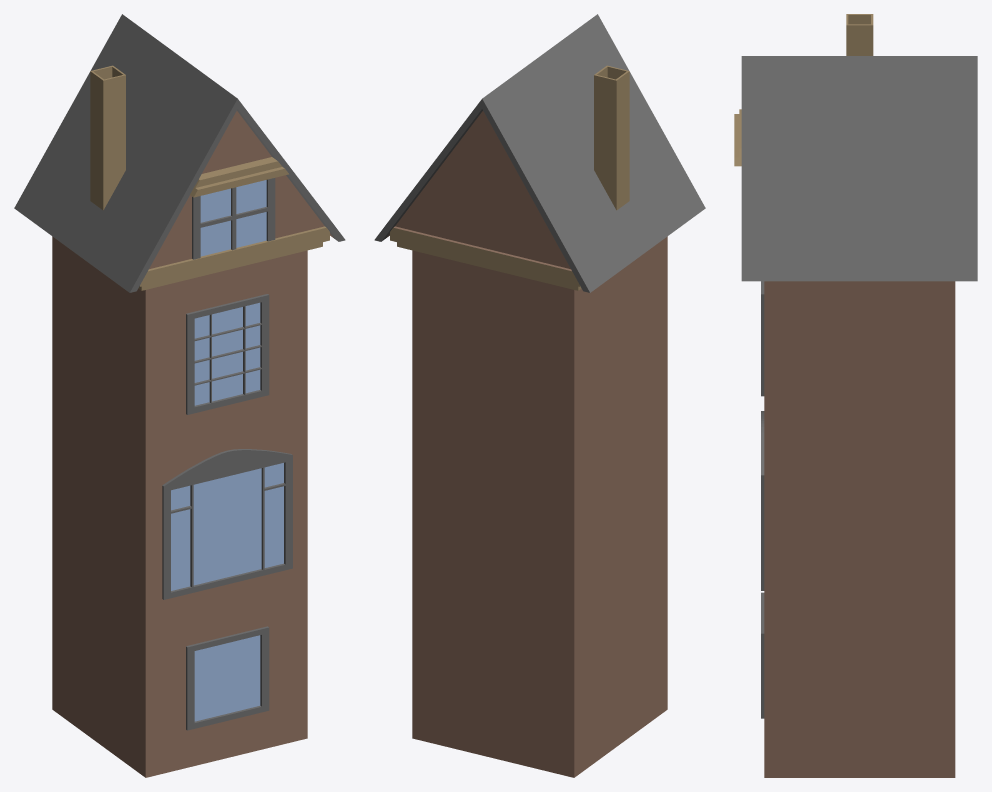
The model's file is House1Lvl3.fbx.
3 views of the same model, side by side, from view 1: azimuth 30°, elevation 25°; view 2: azimuth 150°, elevation 25°; view 3: azimuth 270°, elevation 25° (orthographic). The views are drawn at different scales.
Visible parts, largest first — view 1: House1Lvl3; view 2: House1Lvl3; view 3: House1Lvl3.
Boxes of the visible parts, x1=… form: House1Lvl3: x1=14, y1=14, x2=345, y2=777; House1Lvl3: x1=374, y1=14, x2=705, y2=777; House1Lvl3: x1=734, y1=14, x2=977, y2=777.
Bounding box in the file's own units: 59.34 × 175 × 56.77.
